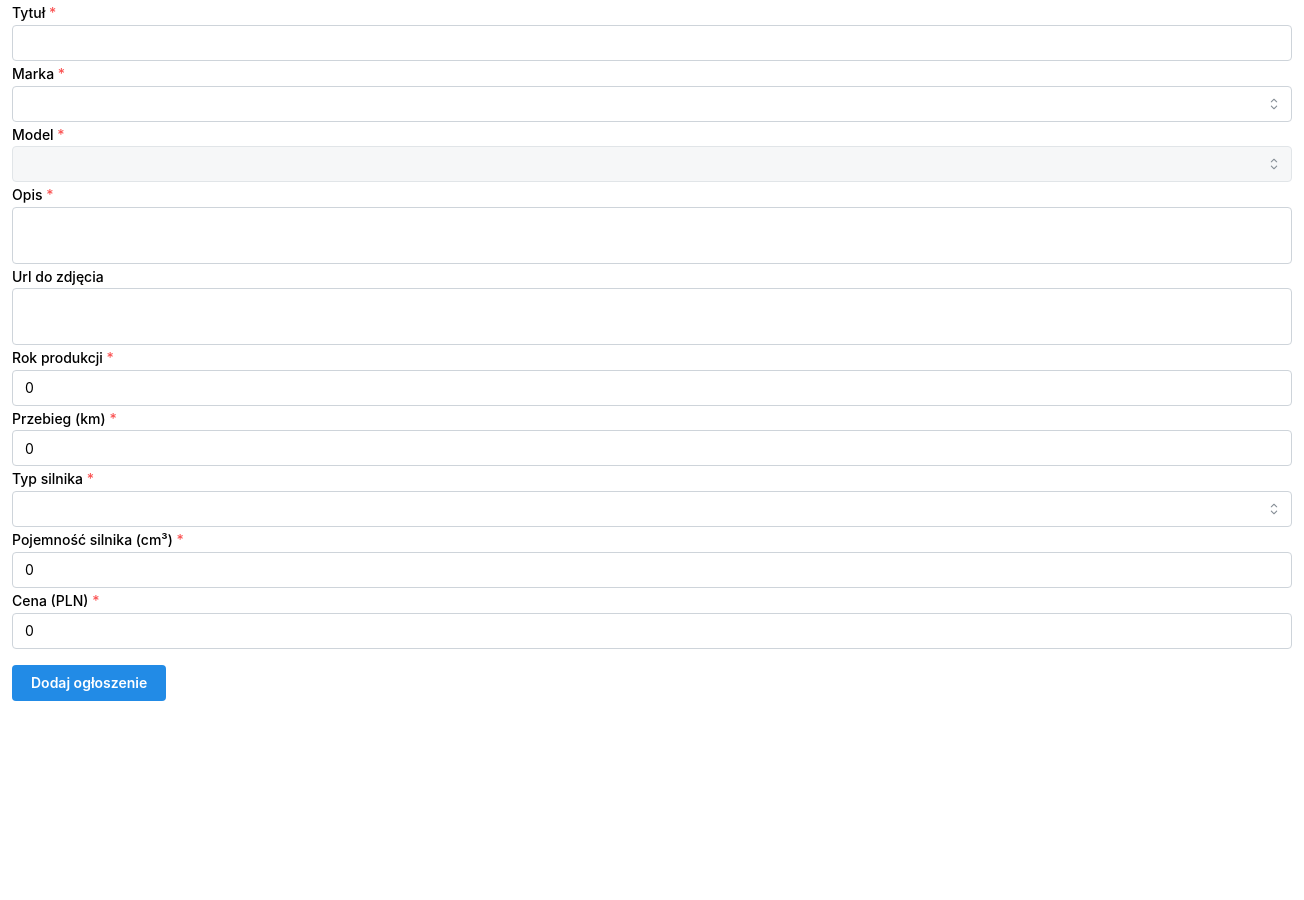
Listing adding form - title input › displays error when car year is more current year
Replace the text in the number field with test id "year-input" with "5000": (652, 388) top-left (12, 370), bottom-right (1292, 406)
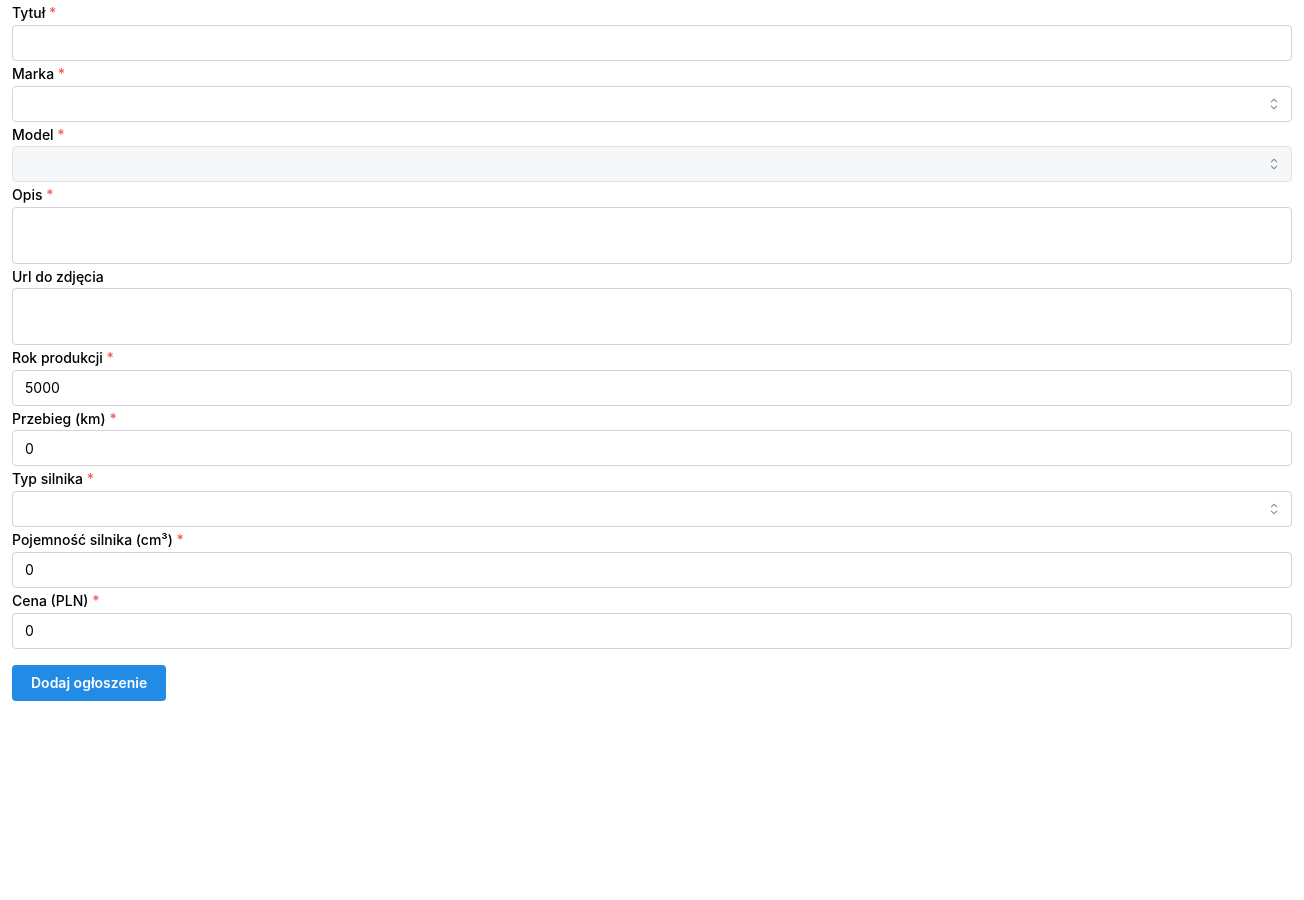
Leave the number field with test id "year-input", box top-left (12, 370), bottom-right (1292, 406)
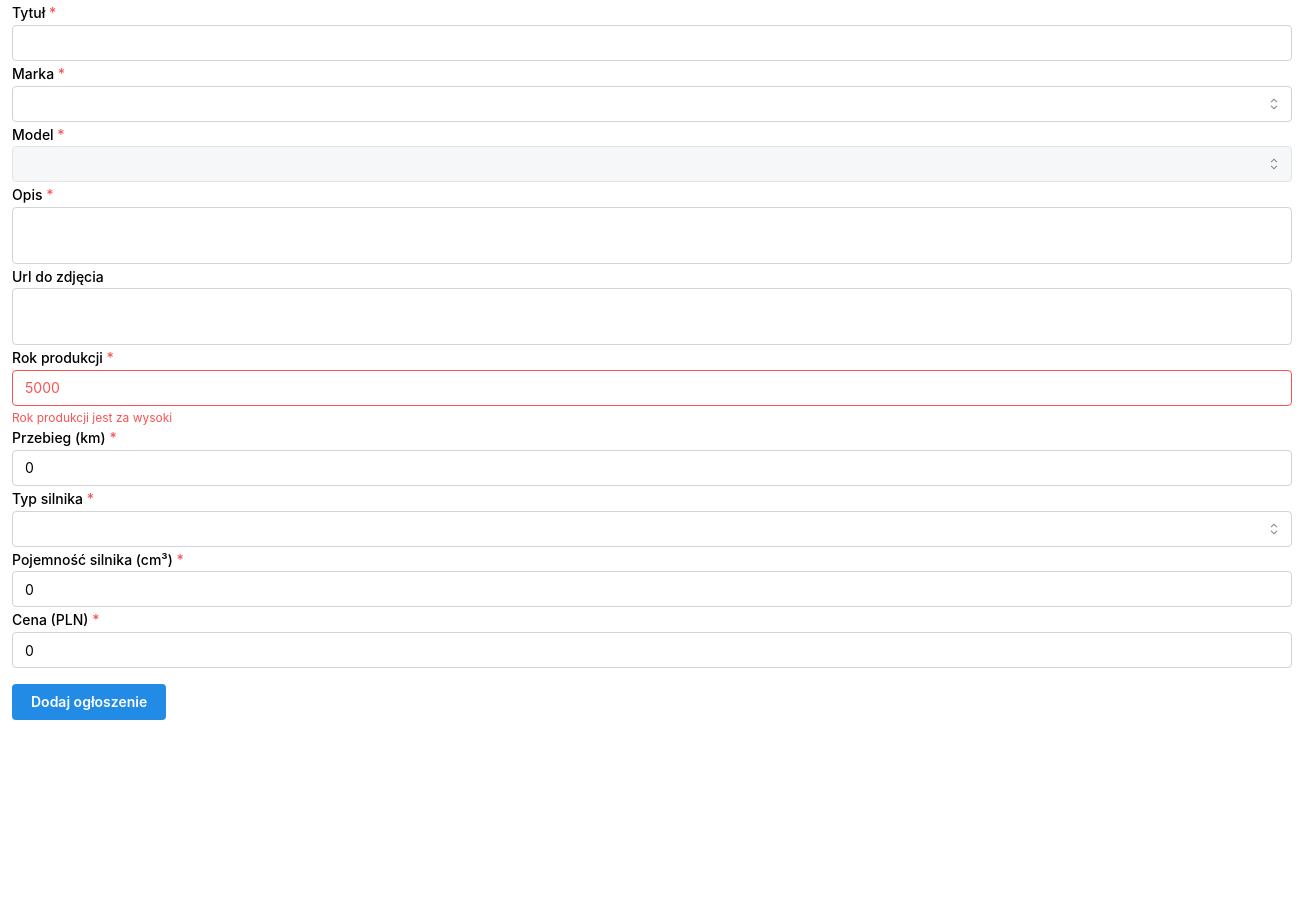
Check: the text "Rok produkcji jest za wysoki" is shown, box top-left (12, 410), bottom-right (172, 424)
